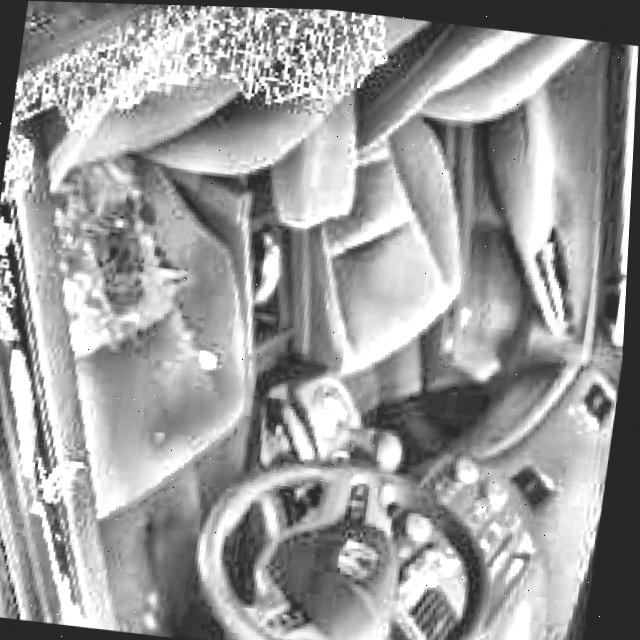glass_shatter: (0, 0, 469, 398)
